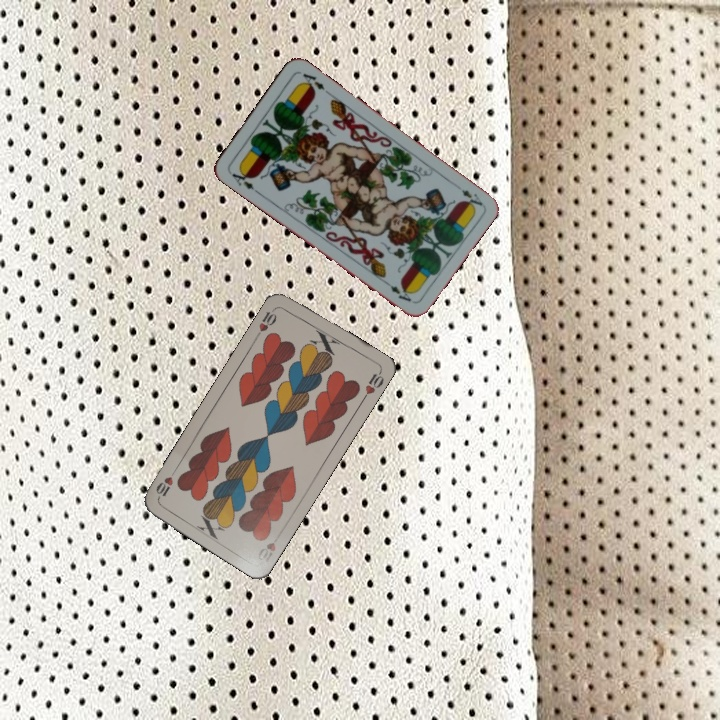EA: (226, 165, 261, 196), (457, 185, 485, 210)
H10: (253, 529, 284, 566), (252, 303, 280, 339)
